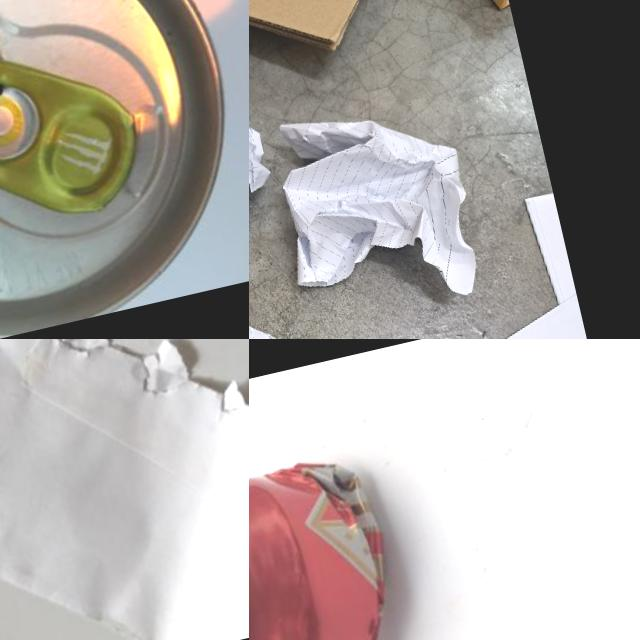aba de lata: (0, 33, 155, 241)
caixinha: (435, 0, 510, 20)
lata: (0, 0, 249, 339), (249, 444, 422, 640)
papel: (0, 339, 249, 640), (266, 80, 492, 330), (387, 191, 634, 339), (249, 98, 279, 240)
papelão: (249, 0, 408, 85)
